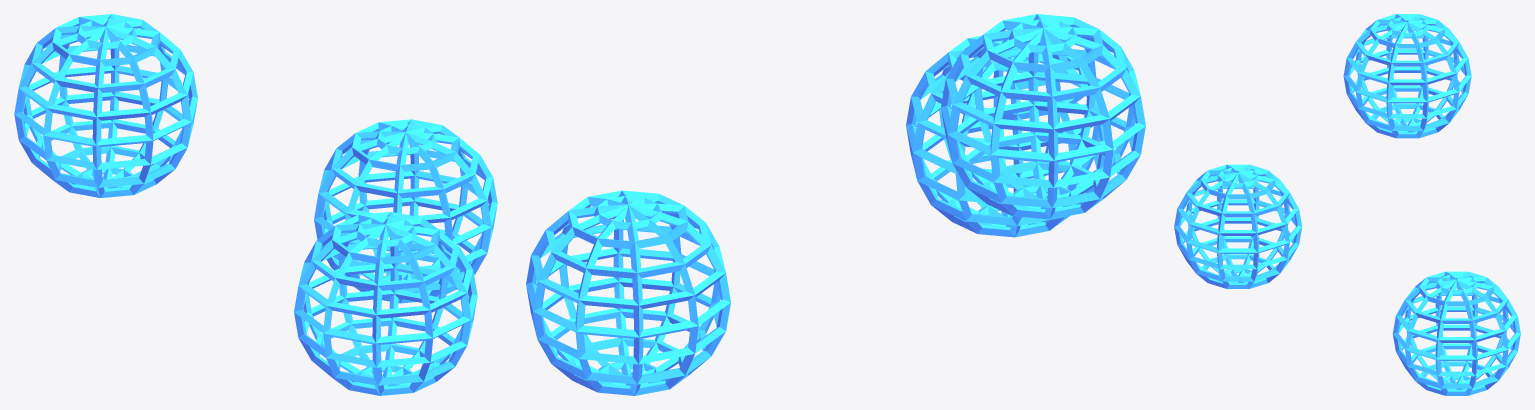
File: mimesis.gltf
3 views of the same model, side by side, from view 1: azimuth 30°, elevation 25°; view 2: azimuth 150°, elevation 25°; view 3: azimuth 270°, elevation 25° (orthographic). The views are drawn at different scales.
Visible parts, largest first — view 1: Sphere.001; view 2: Sphere.001; view 3: Sphere.001.
Boxes of the visible parts, box(x1,y1,x2,y2) form: Sphere.001: box(14, 14, 497, 395); Sphere.001: box(526, 14, 1145, 395); Sphere.001: box(1174, 14, 1520, 395).
Size of the model in its own units: 6.33 by 4.65 by 5.68.
